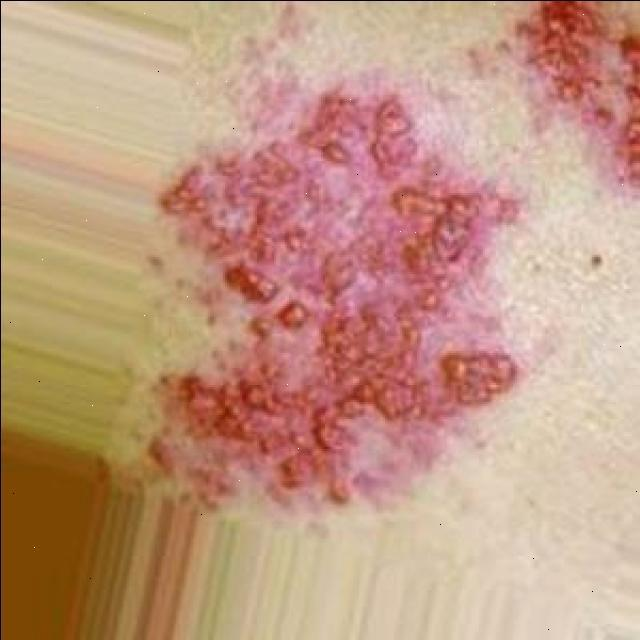Shingles: (148, 81, 521, 504), (517, 0, 640, 191)
